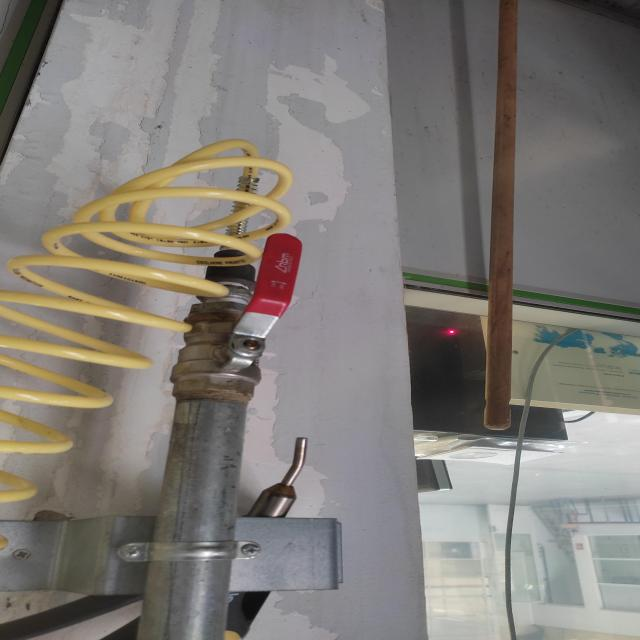opened_valve: (170, 230, 303, 399)
